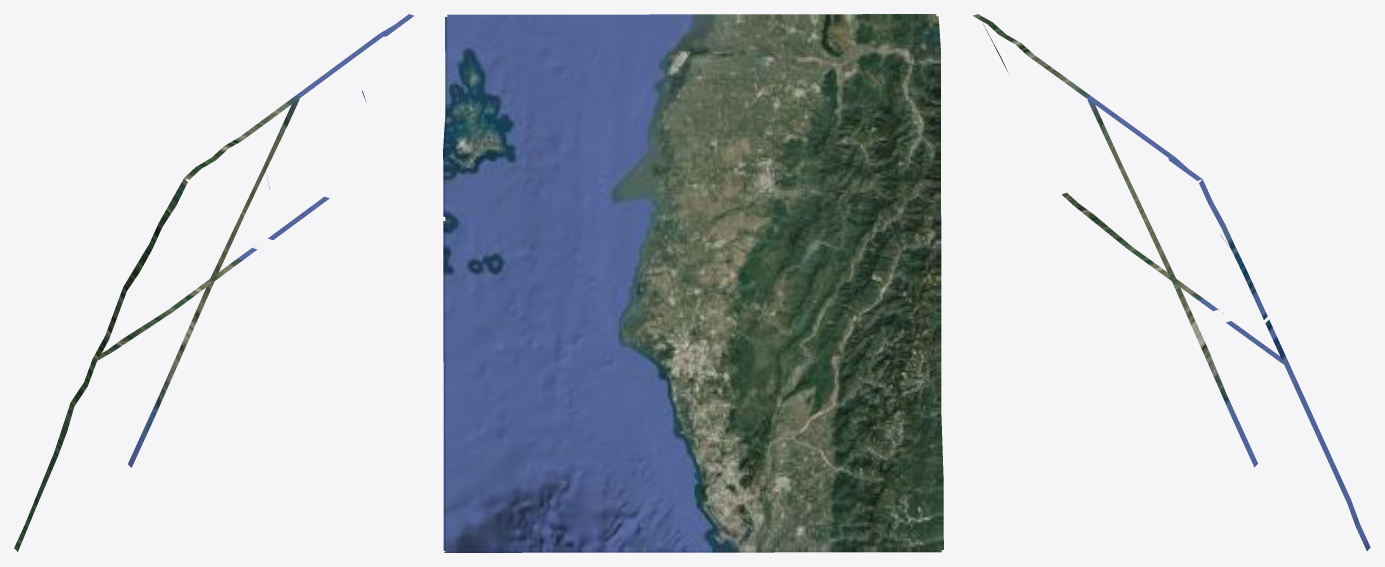
3 renders of one model, left to right at view 1: azimuth 30°, elevation 25°; view 2: azimuth 150°, elevation 25°; view 3: azimuth 270°, elevation 25°, orthographic. The views are drawn at different scales.
Size of the model in its own units: 157699 by 145925 by 127080.
1 material, 1 textured.
